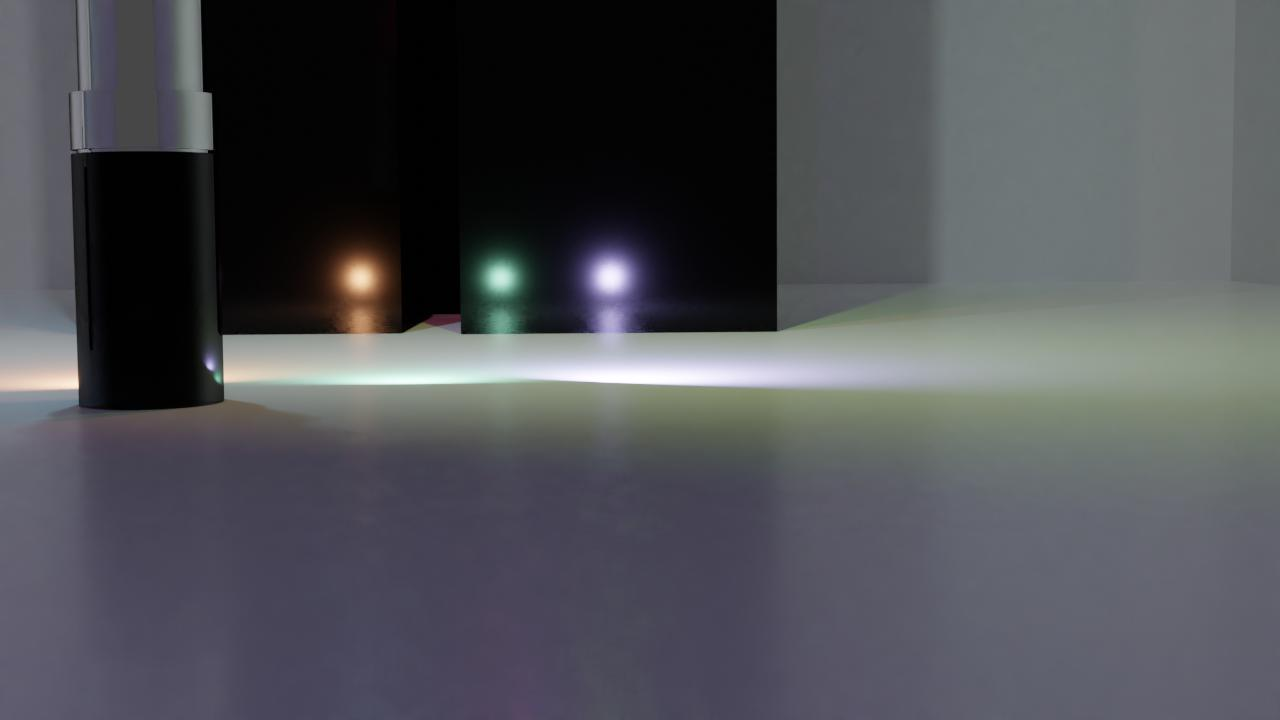CLASSIFIER_NAME: (65, 0, 228, 421)
